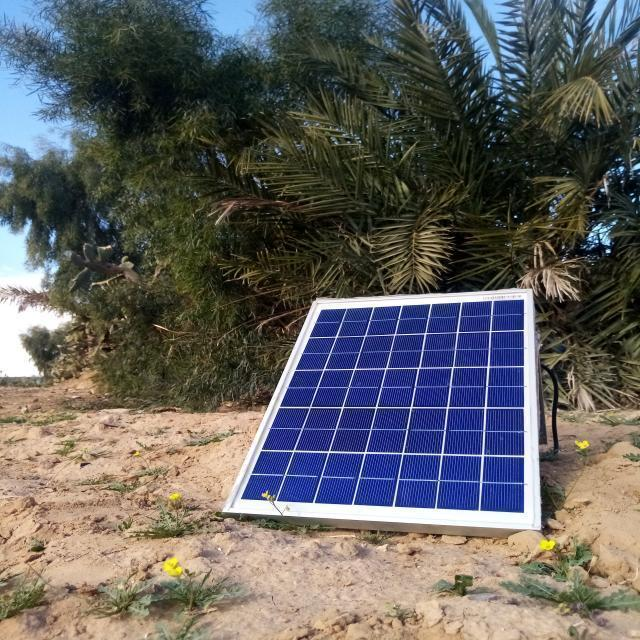Normal Solar Panel: (227, 290, 539, 528)
